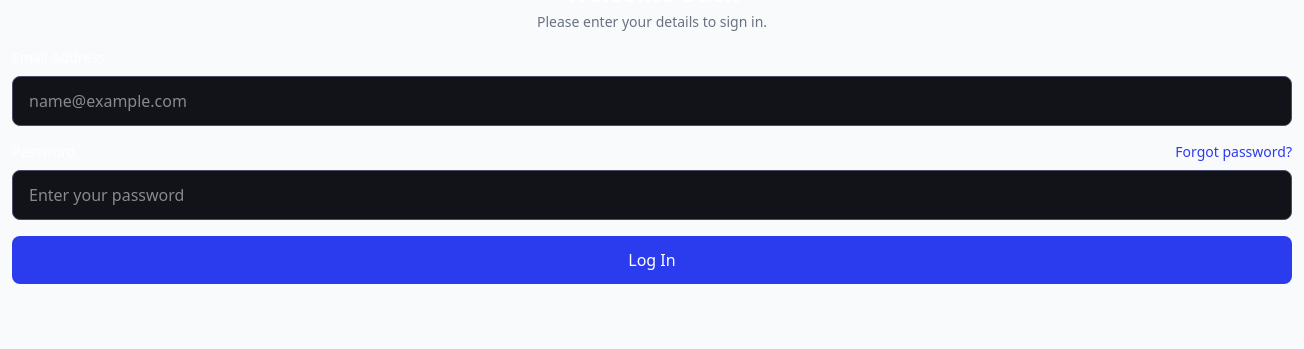
Test: LoginForm - Integration Tests › should validate email format
Type "invalid-email@asdfasdf" into the field labelled "Email Address" at (652, 101), box [12, 76, 1292, 126]
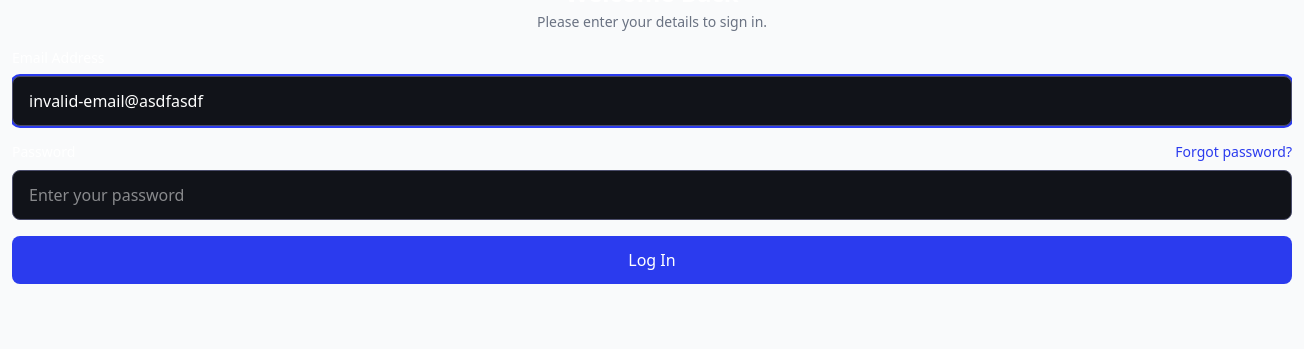
Click the button "Log In" at (652, 260), box [12, 236, 1292, 284]
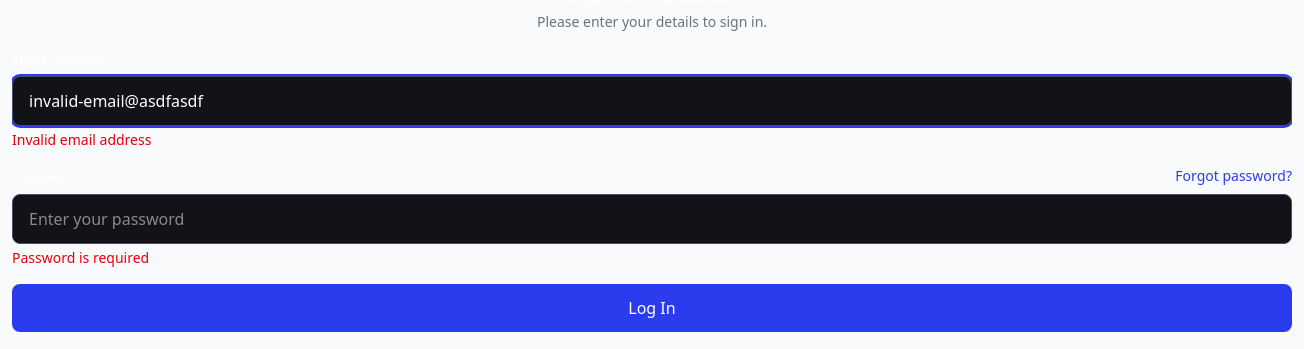
Expected: the text "Invalid email address" is shown, [12, 130, 151, 149]
